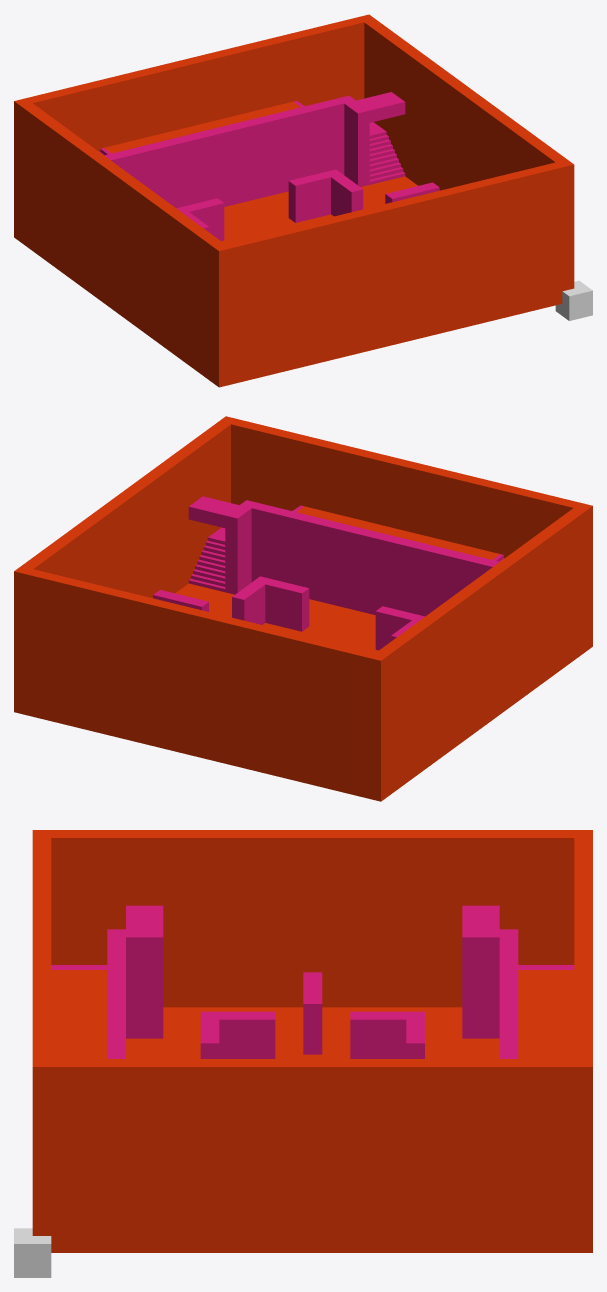
File: Map.fbx
3 views of the same model, one above another, from view 1: azimuth 30°, elevation 25°; view 2: azimuth 150°, elevation 25°; view 3: azimuth 270°, elevation 25° (orthographic). The views are drawn at different scales.
Visible parts, largest first — view 1: unityexport, Cube; view 2: unityexport; view 3: unityexport, Cube.
Boxes of the visible parts, box(x1,y1,x2,y2) form: unityexport: box(14, 14, 574, 387); Cube: box(555, 280, 592, 320); unityexport: box(14, 416, 592, 801); unityexport: box(32, 830, 592, 1252); Cube: box(14, 1228, 51, 1277).
Bounding box in the file's own units: 3100 × 1200 × 3100.
